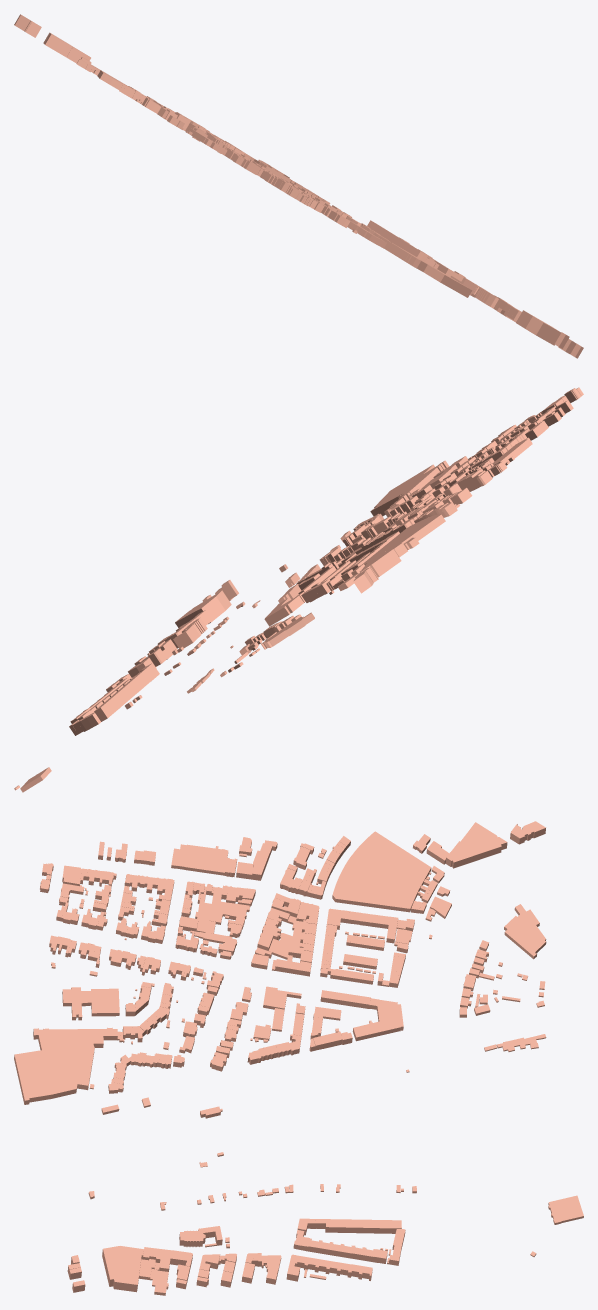
3 views of the same model, one above another, from view 1: azimuth 30°, elevation 25°; view 2: azimuth 150°, elevation 25°; view 3: azimuth 270°, elevation 25° (orthographic). The views are drawn at different scales.
Size of the model in its own units: 542 by 400 by 698.
